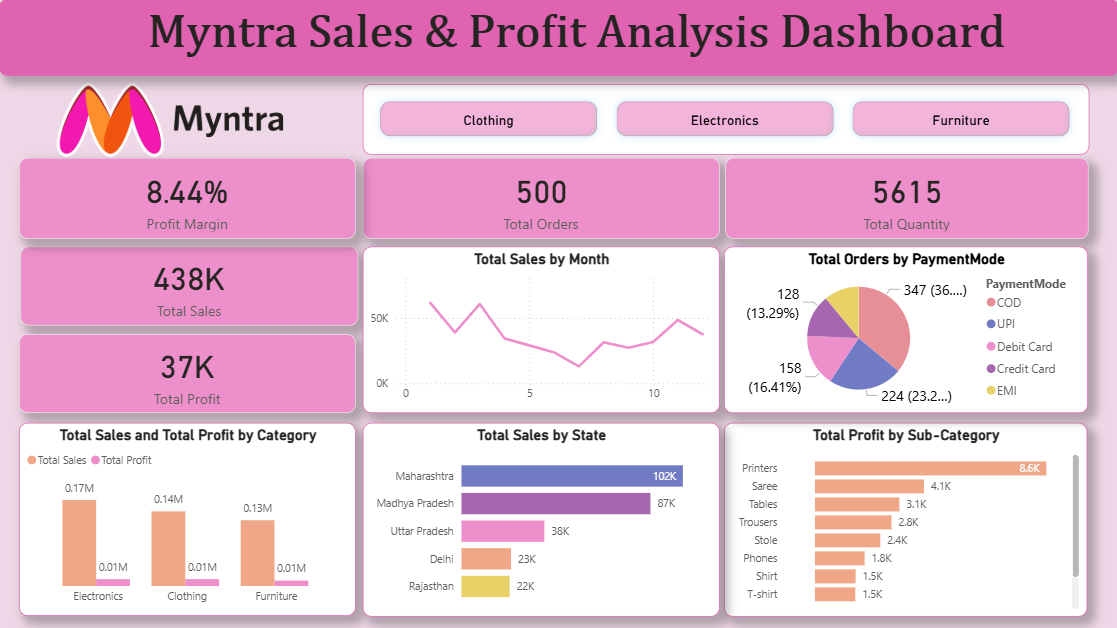

The page's visual inventory and layout, read from the dashboard file:
{"tool":"powerbi","page":{"name":"Page 1","canvas":[1280,720],"ordinal":0},"visuals":[{"type":"card","fields":{"Values":["cleaned_myntra_dataset.Total Sales"]},"box":[24.1,283.5,386.1,90.5],"z":0},{"type":"card","fields":{"Values":["cleaned_myntra_dataset.Total Profit"]},"box":[22.9,382.4,384.9,90.5],"z":1000},{"type":"card","fields":{"Values":["cleaned_myntra_dataset.Total Orders"]},"box":[415,181,407.8,92.9],"z":2000},{"type":"card","fields":{"Values":["cleaned_myntra_dataset.Total Quantity"]},"box":[830,181,415,92.9],"z":3000},{"type":"lineChart","fields":{"Y":["cleaned_myntra_dataset.Total Sales"],"Category":["cleaned_myntra_dataset.Month"]},"box":[415,283.5,407.8,190.6],"z":4000},{"type":"clusteredBarChart","fields":{"Category":["cleaned_myntra_dataset.Sub-Category"],"Y":["cleaned_myntra_dataset.Total Profit"]},"box":[828.8,483.8,415,222],"z":5000},{"type":"pieChart","fields":{"Category":["cleaned_myntra_dataset.PaymentMode"],"Y":["cleaned_myntra_dataset.Total Orders"]},"box":[828.8,283.5,416.2,190.6],"z":6000},{"type":"advancedSlicerVisual","fields":{"Values":["cleaned_myntra_dataset.Category"]},"box":[415,89.3,830,80.8],"z":7000},{"type":"clusteredColumnChart","fields":{"Category":["cleaned_myntra_dataset.Category"],"Y":["cleaned_myntra_dataset.Total Sales","cleaned_myntra_dataset.Total Profit"]},"box":[22.9,483.8,384.9,220.8],"z":8000},{"type":"clusteredBarChart","fields":{"Category":["cleaned_myntra_dataset.State"],"Y":["cleaned_myntra_dataset.Total Sales"]},"box":[415,483.8,407.8,222],"z":9000},{"type":"card","fields":{"Values":["cleaned_myntra_dataset.Profit Margin"]},"box":[22.9,181,384.9,92.9],"z":10000},{"type":"image","box":[13.3,56.7,364.3,161.7],"z":11000},{"type":"textbox","box":[0,0,1280,80.8],"z":12000}]}

Visuals, with their boxes in screenshot pixels (x1, y1, x2, y2), scaled from the page's 1280x720 canvas onto the 1117x628 screenshot:
card - cleaned_myntra_dataset.Total Sales: Rect(21, 247, 358, 326)
card - cleaned_myntra_dataset.Total Profit: Rect(20, 334, 356, 412)
card - cleaned_myntra_dataset.Total Orders: Rect(362, 158, 718, 239)
card - cleaned_myntra_dataset.Total Quantity: Rect(724, 158, 1086, 239)
lineChart - cleaned_myntra_dataset.Total Sales x cleaned_myntra_dataset.Month: Rect(362, 247, 718, 414)
clusteredBarChart - cleaned_myntra_dataset.Sub-Category x cleaned_myntra_dataset.Total Profit: Rect(723, 422, 1085, 616)
pieChart - cleaned_myntra_dataset.PaymentMode x cleaned_myntra_dataset.Total Orders: Rect(723, 247, 1086, 414)
advancedSlicerVisual - cleaned_myntra_dataset.Category: Rect(362, 78, 1086, 148)
clusteredColumnChart - cleaned_myntra_dataset.Category x cleaned_myntra_dataset.Total Sales: Rect(20, 422, 356, 615)
clusteredBarChart - cleaned_myntra_dataset.State x cleaned_myntra_dataset.Total Sales: Rect(362, 422, 718, 616)
card - cleaned_myntra_dataset.Profit Margin: Rect(20, 158, 356, 239)
image: Rect(12, 49, 330, 190)
textbox: Rect(0, 0, 1116, 70)
